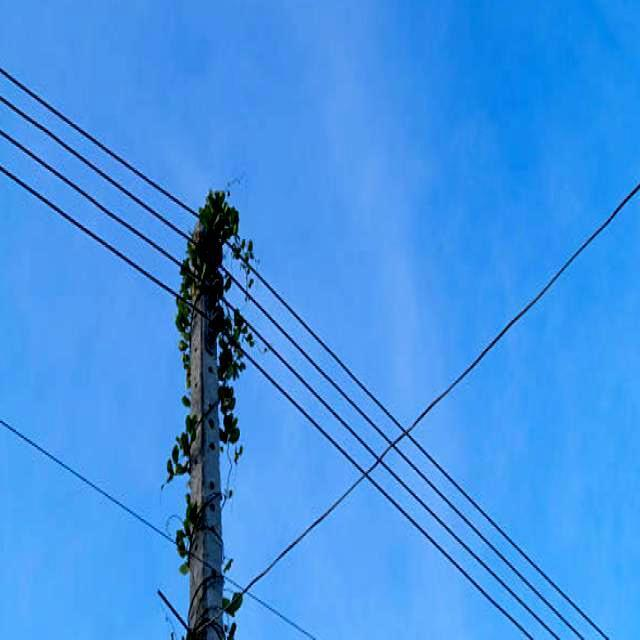critical vegetation: (148, 166, 258, 631), (153, 172, 260, 391)
